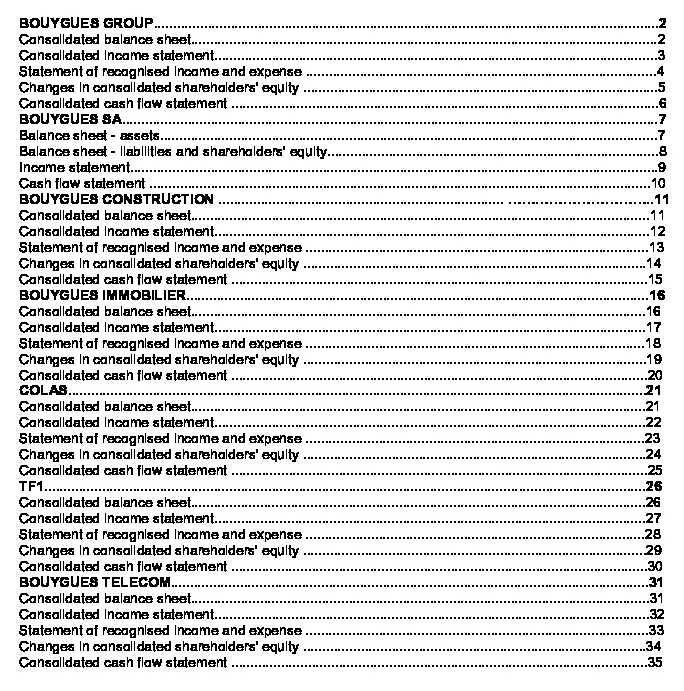table: (0, 0, 684, 691)
